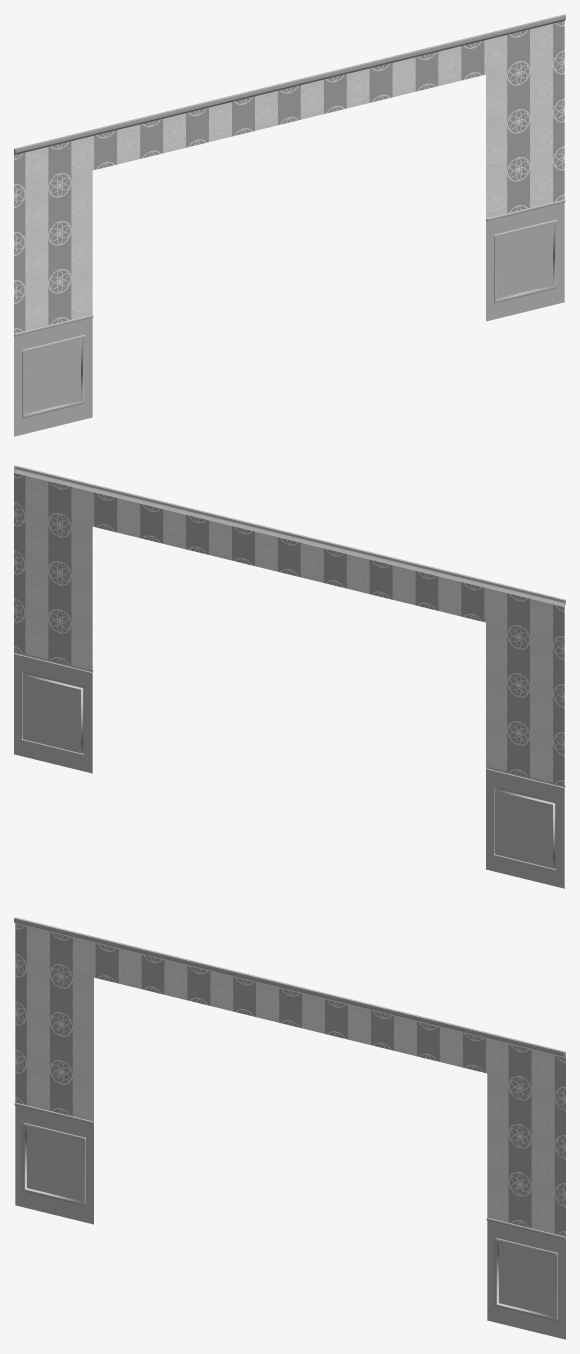
File: WallNiche03_700Frame500x300cm.FBX
3 views of the same model, one above another, from view 1: azimuth 30°, elevation 25°; view 2: azimuth 150°, elevation 25°; view 3: azimuth 330°, elevation 25° (orthographic).
Visible parts, largest first — view 1: WallNiche03_700Frame500x300cm; view 2: WallNiche03_700Frame500x300cm; view 3: WallNiche03_700Frame500x300cm.
Boxes of the visible parts, bbox=[...] form: WallNiche03_700Frame500x300cm: bbox=[14, 14, 565, 436]; WallNiche03_700Frame500x300cm: bbox=[14, 465, 565, 888]; WallNiche03_700Frame500x300cm: bbox=[14, 917, 565, 1339].
Bounding box in the file's own units: 7000 × 3500 × 60.
